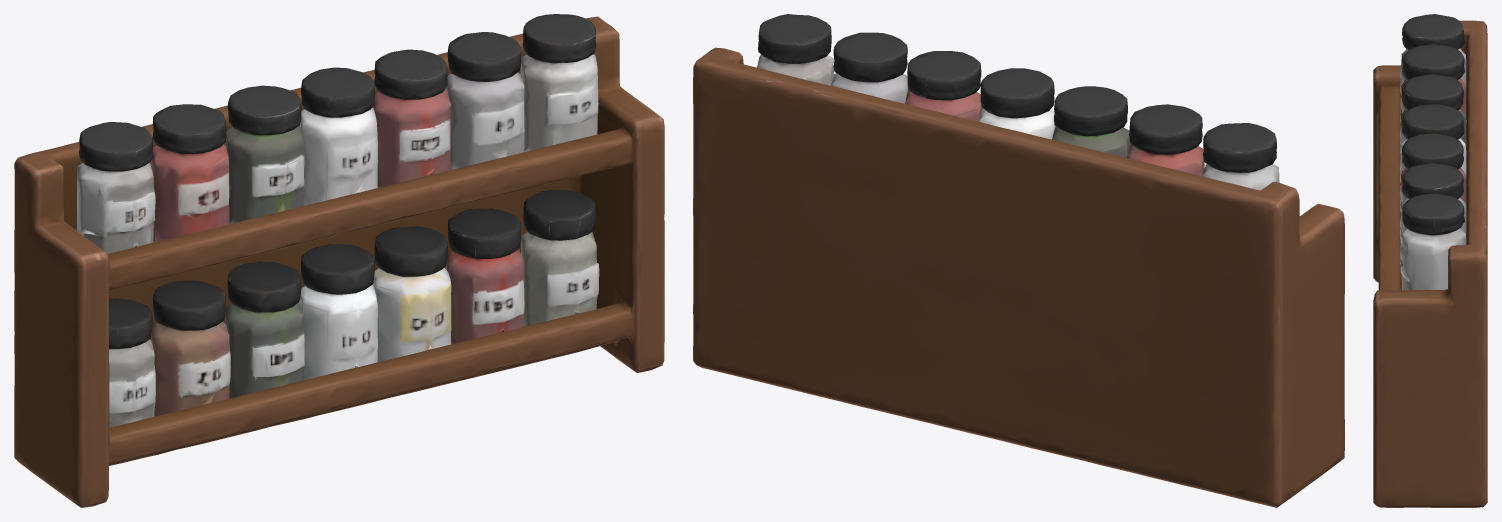
The model's file is teakitchen_SpiceRack.glb.
3 renders of one model, left to right at view 1: azimuth 30°, elevation 25°; view 2: azimuth 150°, elevation 25°; view 3: azimuth 270°, elevation 25°, orthographic. The views are drawn at different scales.
Parts seen in each view (by area): view 1: world; view 2: world; view 3: world.
Part boxes in pixels (x1,y1,x2,y2): world: [14, 14, 664, 507]; world: [693, 14, 1344, 507]; world: [1373, 14, 1487, 507].
Bounding box in the file's own units: 1 × 0.5432 × 0.2044.
1 material, 1 textured.
